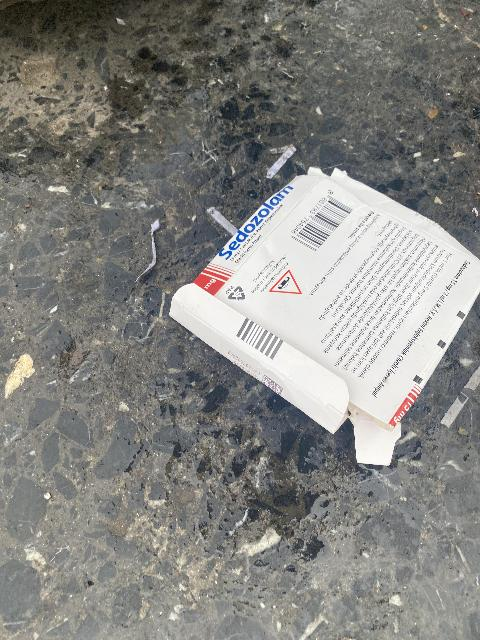Kagit: (168, 166, 480, 465)
